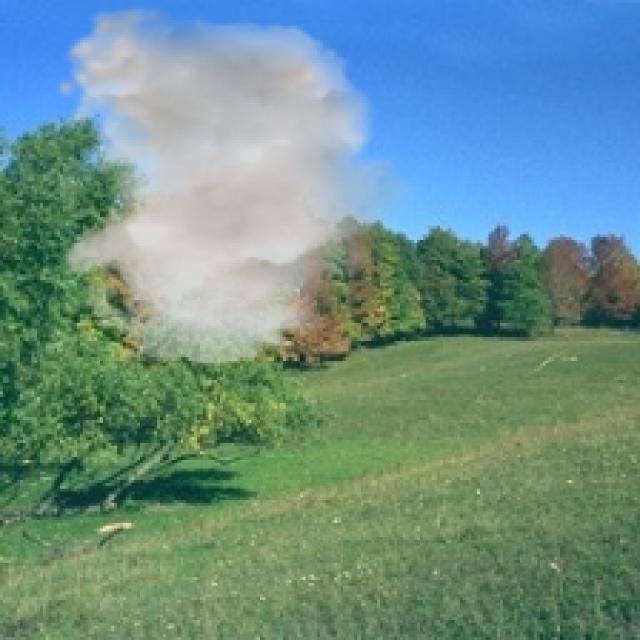smoke: (54, 6, 423, 366)
